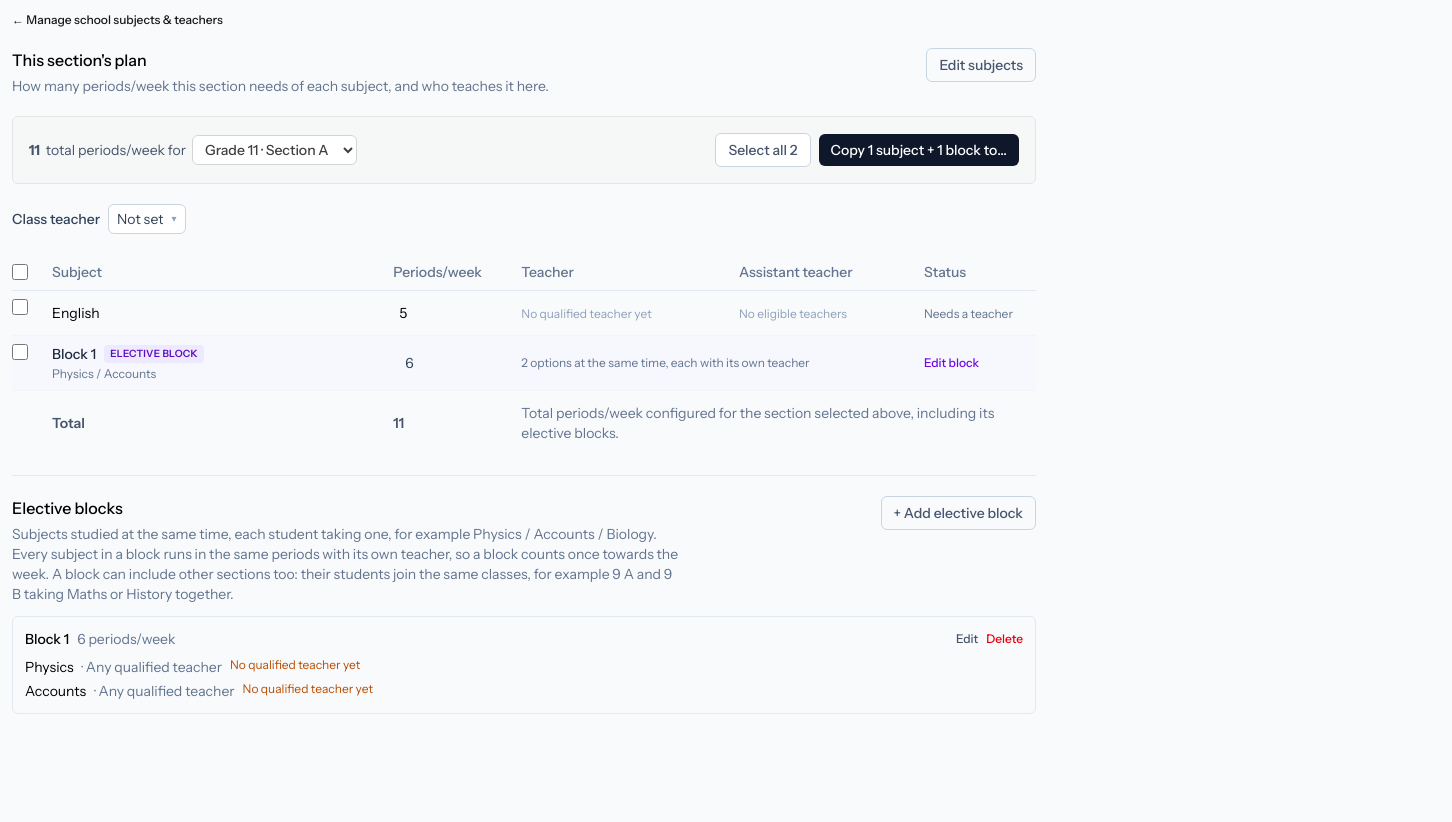
a section's plan with elective blocks › "Edit block" on a block's row opens its editor below
Click the button "Edit block": [952, 363] box [924,355,979,371]
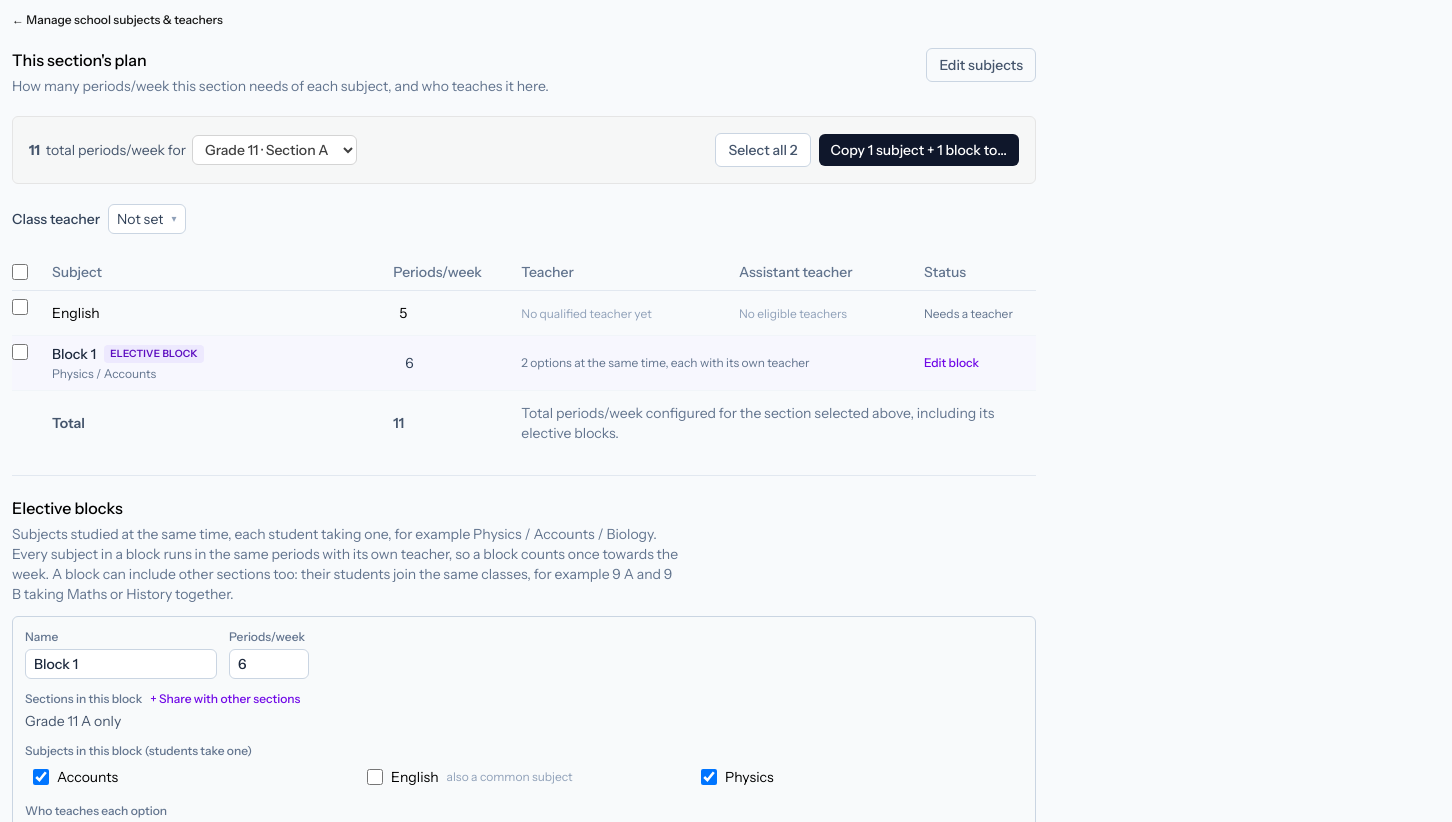
Now the field showing "Block 1" is shown, box [25,649,217,679]
